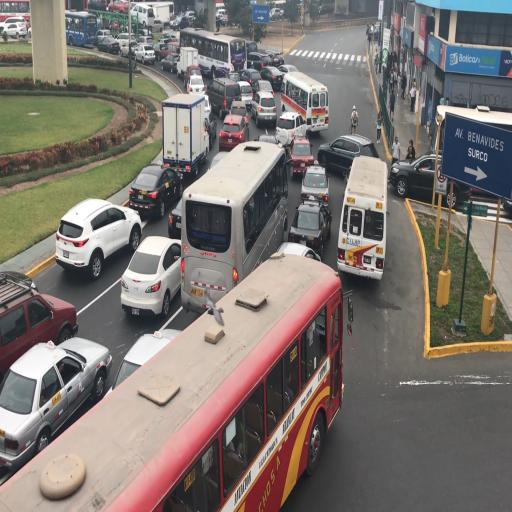auto: (0, 337, 111, 477), (1, 272, 79, 392), (54, 194, 139, 277), (121, 235, 183, 316), (110, 330, 182, 396), (390, 151, 466, 207), (128, 162, 182, 218), (287, 200, 331, 260), (318, 133, 375, 178), (53, 218, 90, 272), (468, 182, 510, 214), (218, 112, 250, 151), (274, 109, 306, 148), (300, 162, 328, 206), (288, 135, 315, 179), (251, 131, 287, 164), (251, 88, 276, 128), (260, 65, 285, 92), (228, 99, 250, 127), (233, 80, 253, 110), (114, 32, 138, 57), (240, 68, 264, 92), (0, 19, 28, 39), (158, 40, 180, 65), (204, 108, 217, 150), (247, 50, 273, 71), (184, 64, 203, 91), (96, 34, 121, 54), (171, 11, 194, 30), (134, 44, 155, 64), (253, 78, 274, 98), (255, 133, 280, 147), (108, 0, 133, 14), (136, 35, 154, 53), (266, 50, 285, 66), (278, 64, 298, 78), (96, 28, 113, 44), (160, 31, 179, 45), (87, 0, 107, 11), (203, 95, 211, 121), (150, 18, 164, 32), (269, 8, 283, 21), (140, 26, 153, 37), (168, 12, 177, 24), (221, 14, 229, 26), (216, 8, 223, 21)
moto: (4, 255, 330, 507), (335, 154, 384, 280), (180, 27, 235, 79), (65, 10, 98, 47)
